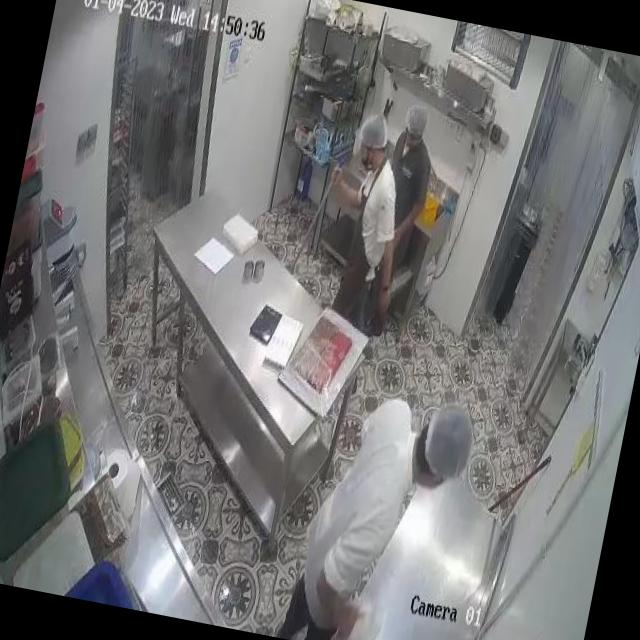hairnet: (424, 404, 476, 477), (360, 110, 390, 146), (406, 103, 430, 136)
